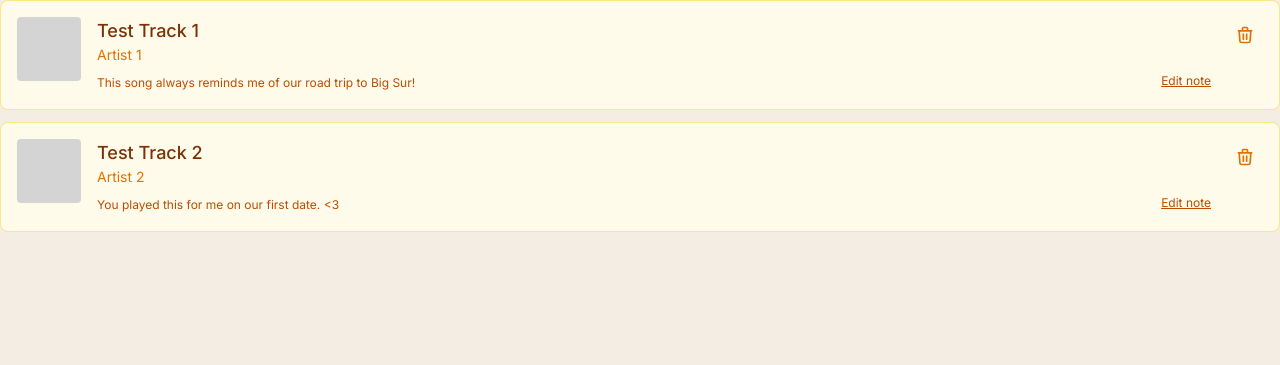
Test: TrackList › Track Note Editing › opens textarea with existing text when "Edit note" is clicked
Click the button with test id "edit-track-text-1".
click(1186, 81)  # box [1161,73,1211,89]
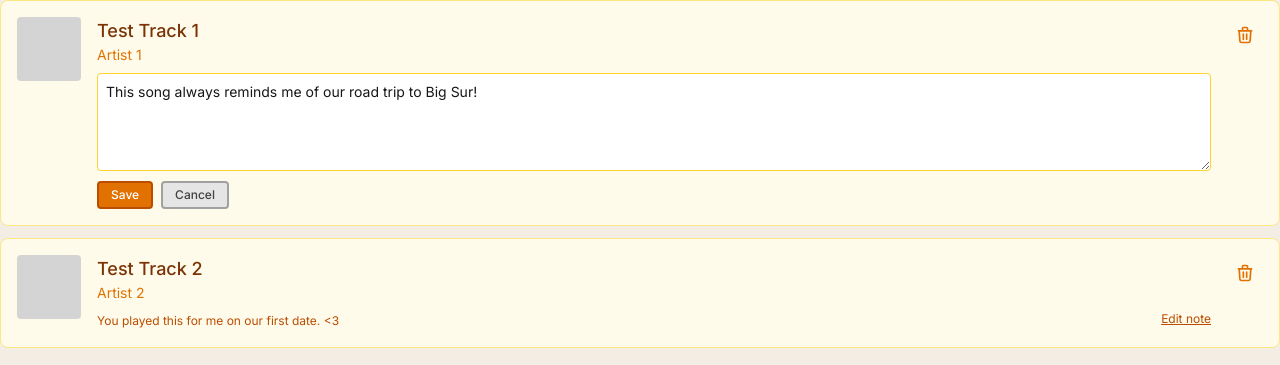
Now the text box with test id "track-textarea-1" holds "This song always reminds me of our road trip to Big Sur!", box [97,73,1211,171]
